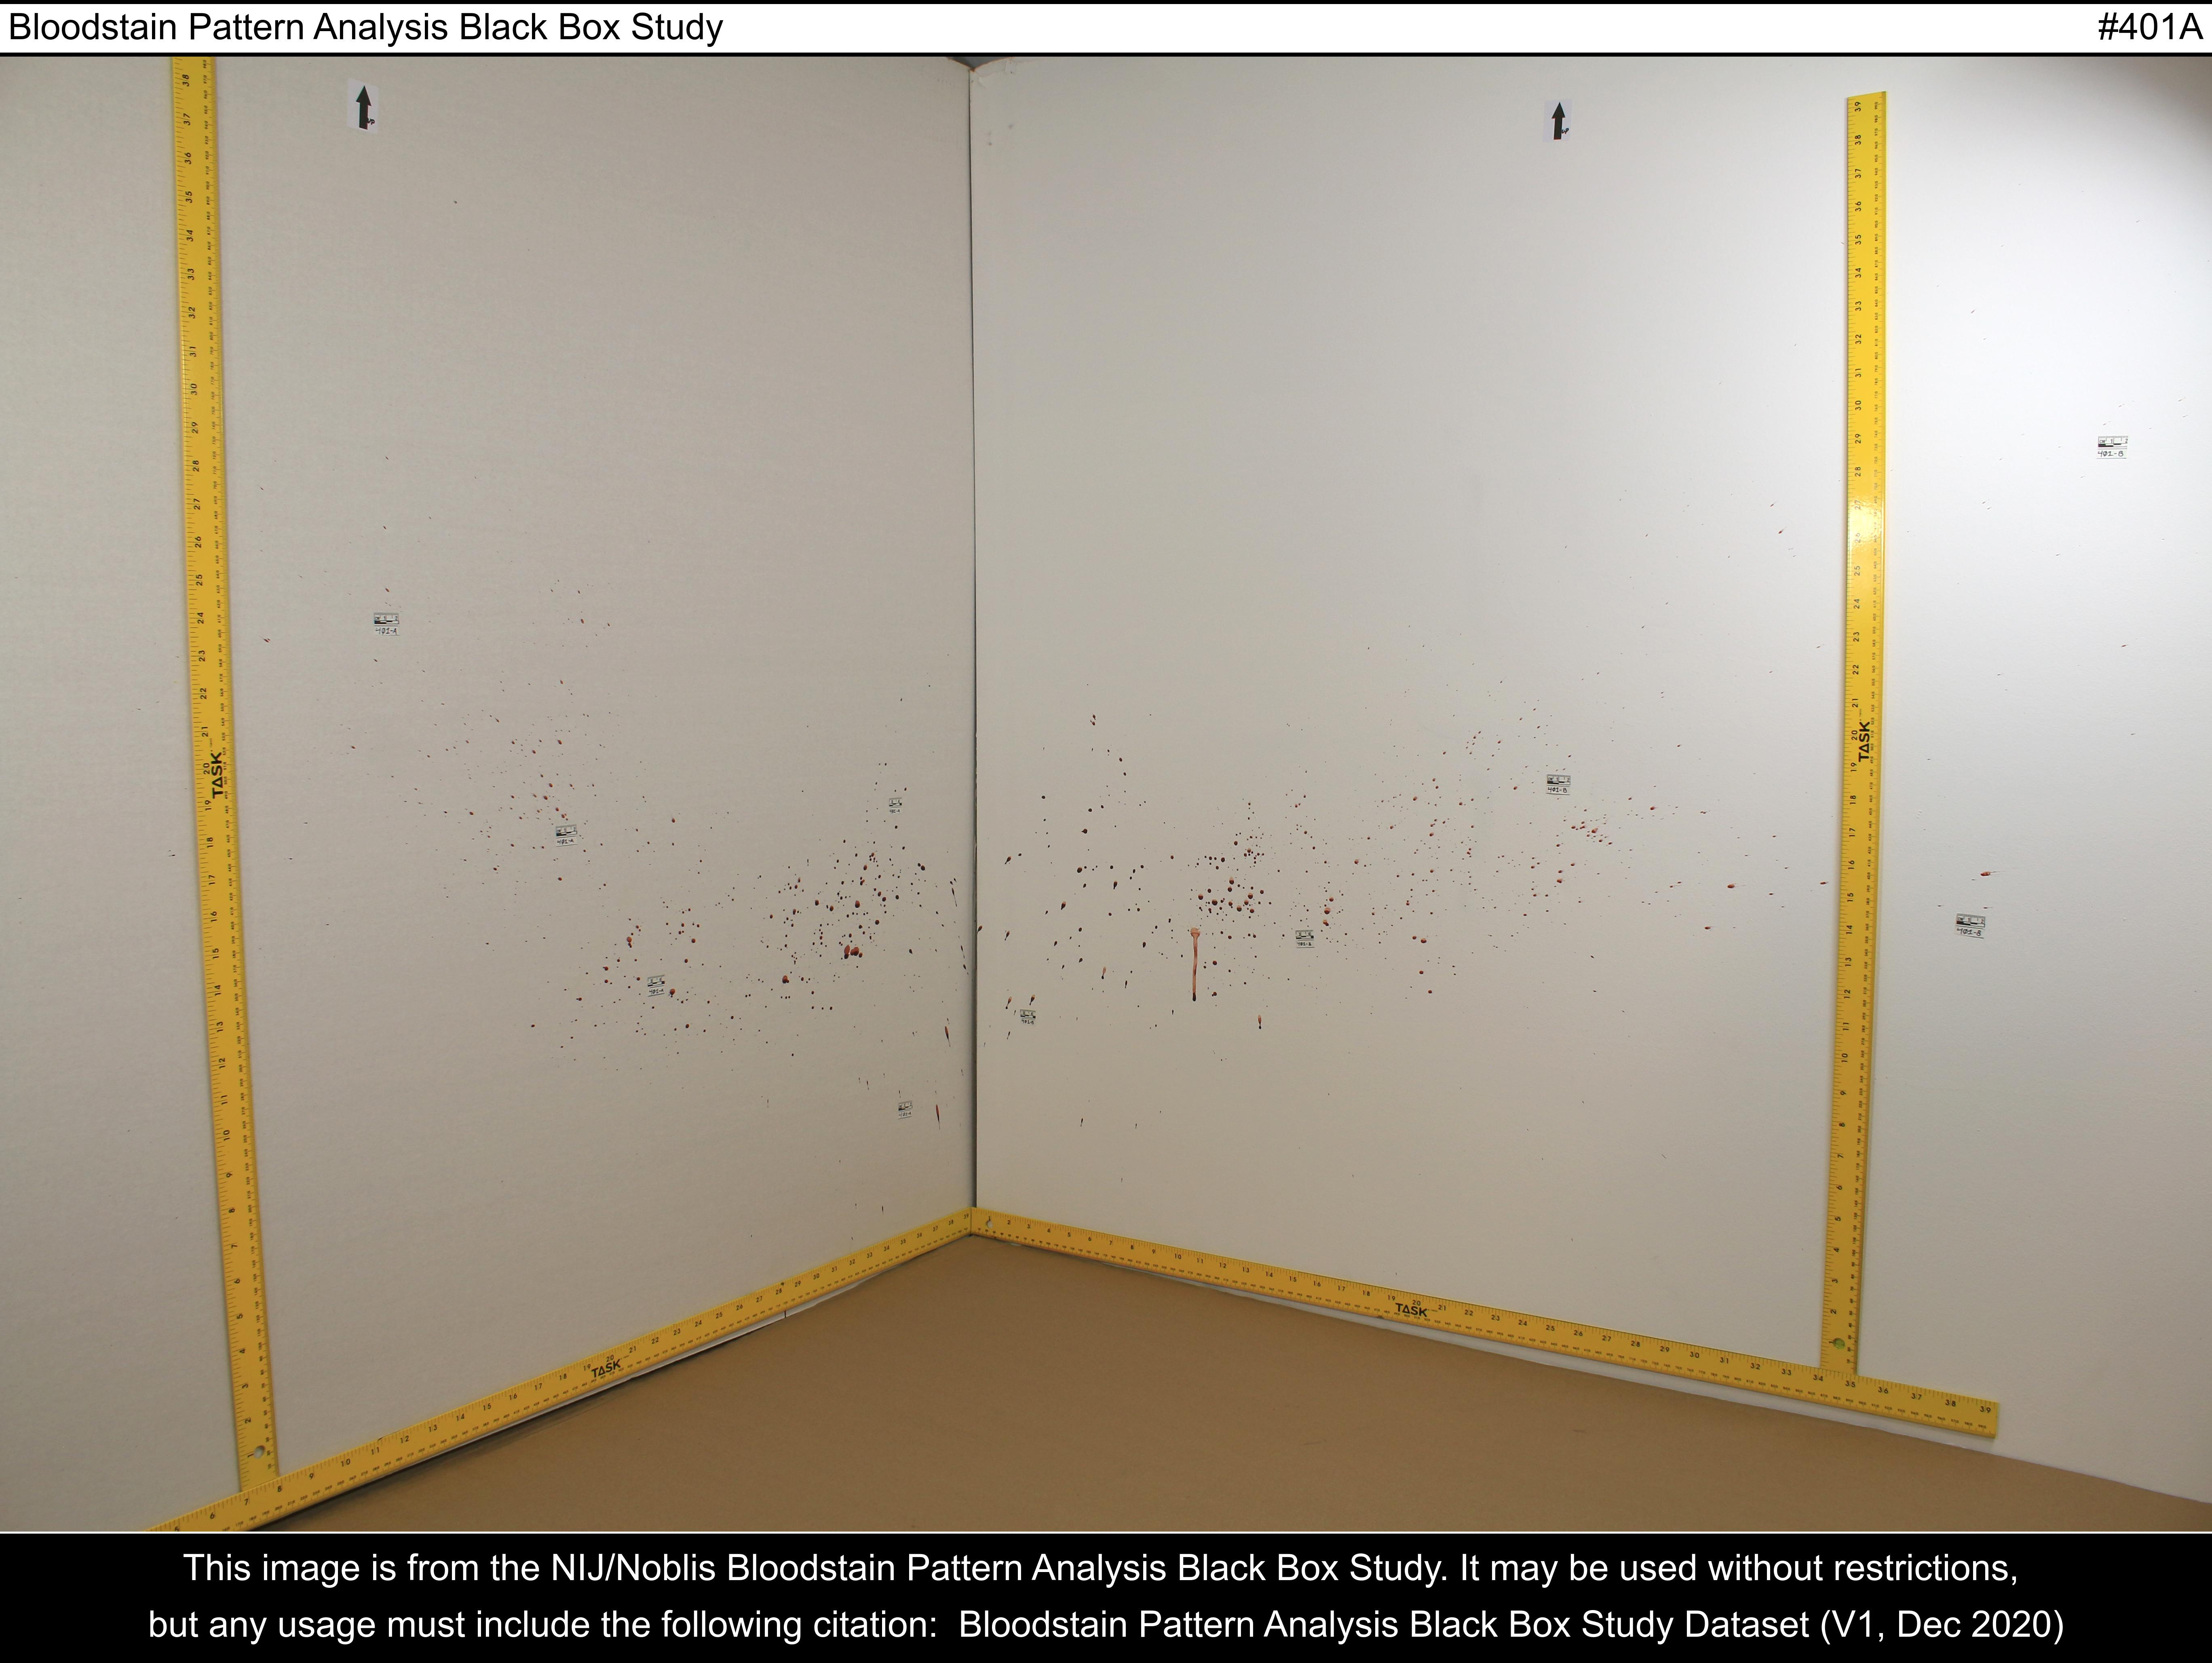Impact: (292, 56, 1823, 1504)
